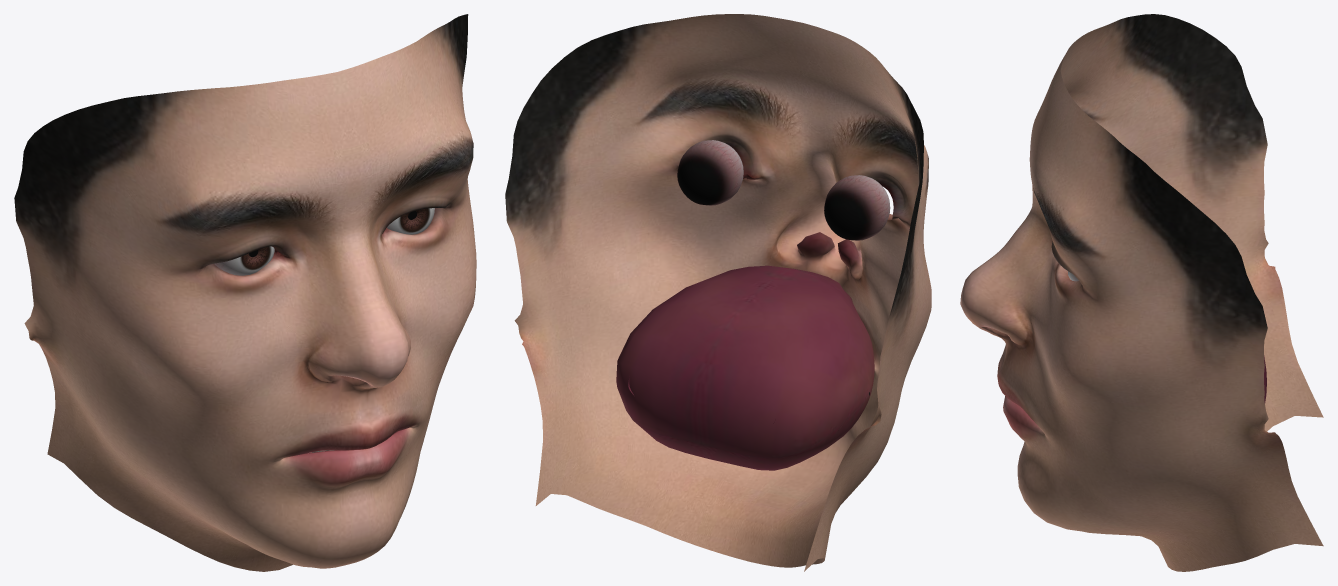
3 renders of one model, left to right at view 1: azimuth 30°, elevation 25°; view 2: azimuth 150°, elevation 25°; view 3: azimuth 270°, elevation 25°, orthographic. The views are drawn at different scales.
Visible parts, largest first — view 1: 头004; view 2: 头004; view 3: 头004.
Part boxes in pixels (box(x1,y1,x2,y2)): 头004: box(14, 14, 476, 571); 头004: box(505, 14, 931, 571); 头004: box(960, 14, 1323, 571).
Size of the model in its own units: 168 by 202 by 136.
Materials: 3 (3 with a texture image).
